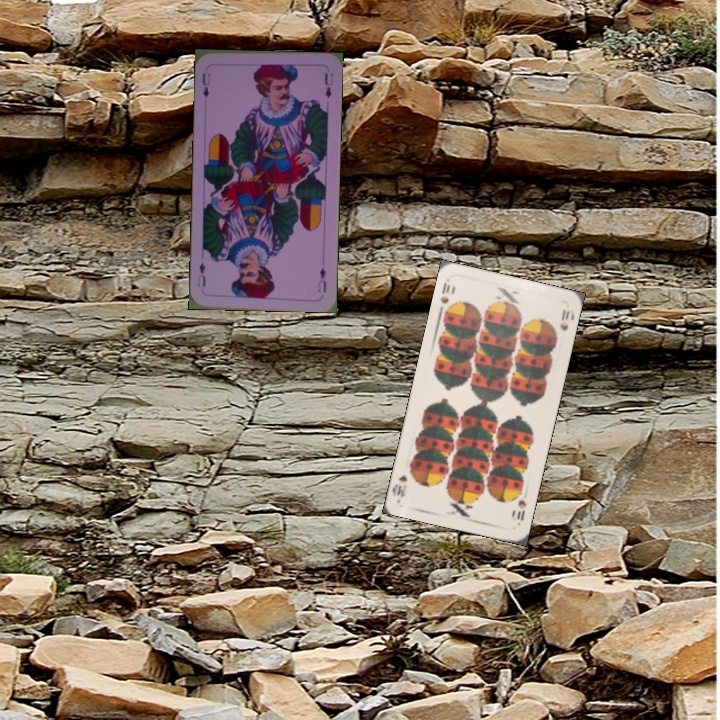EU: (198, 69, 213, 101), (314, 263, 329, 295)
S10: (435, 276, 454, 317), (513, 495, 529, 524)
